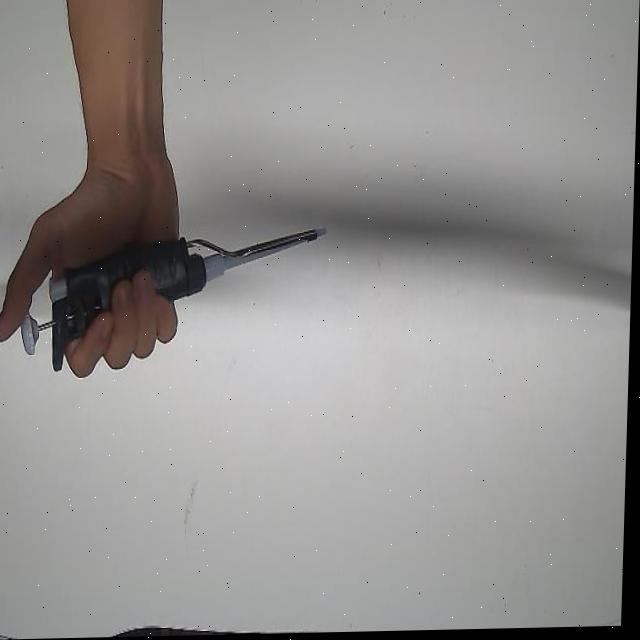Single Channel Pipettor: (21, 225, 332, 373)
